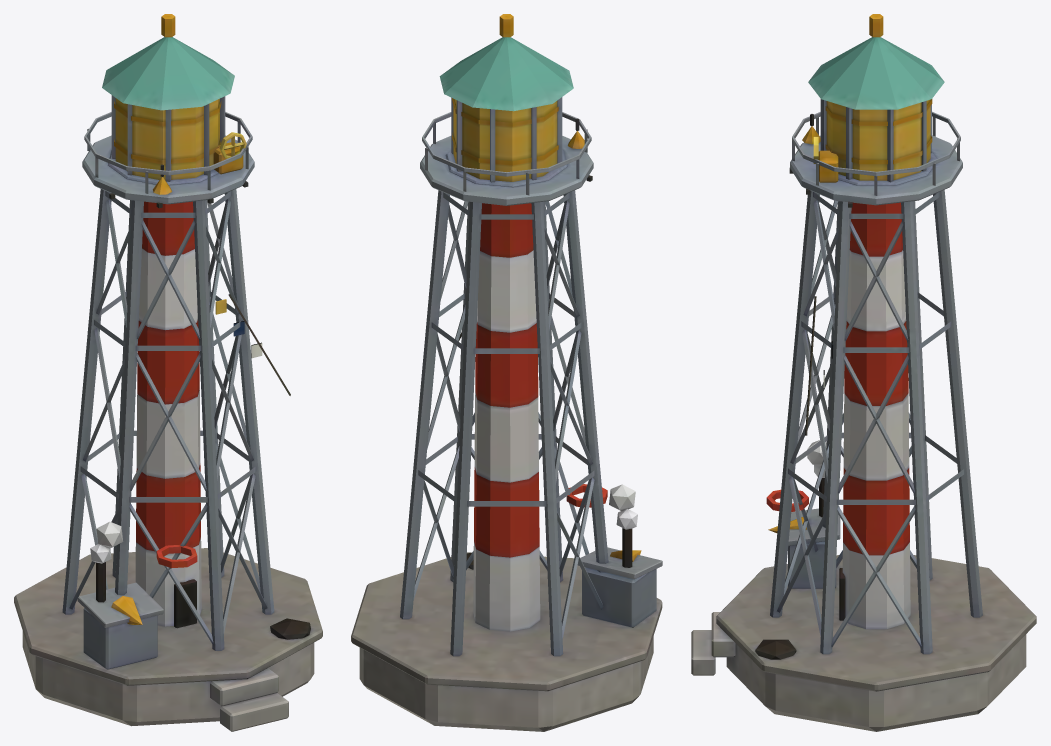
The model's file is lighthouse-15.glb.
3 renders of one model, left to right at view 1: azimuth 30°, elevation 25°; view 2: azimuth 150°, elevation 25°; view 3: azimuth 270°, elevation 25°, orthographic.
Parts seen in each view (by area): view 1: lighthouse-15; view 2: lighthouse-15; view 3: lighthouse-15.
Boxes of the visible parts, x1,y1,x2,y2 form: lighthouse-15: (14, 14, 322, 731); lighthouse-15: (351, 14, 662, 731); lighthouse-15: (691, 14, 1036, 731).
Bounding box in the file's own units: 1.59 × 3.59 × 1.72.
Materials: 1 (1 with a texture image).
